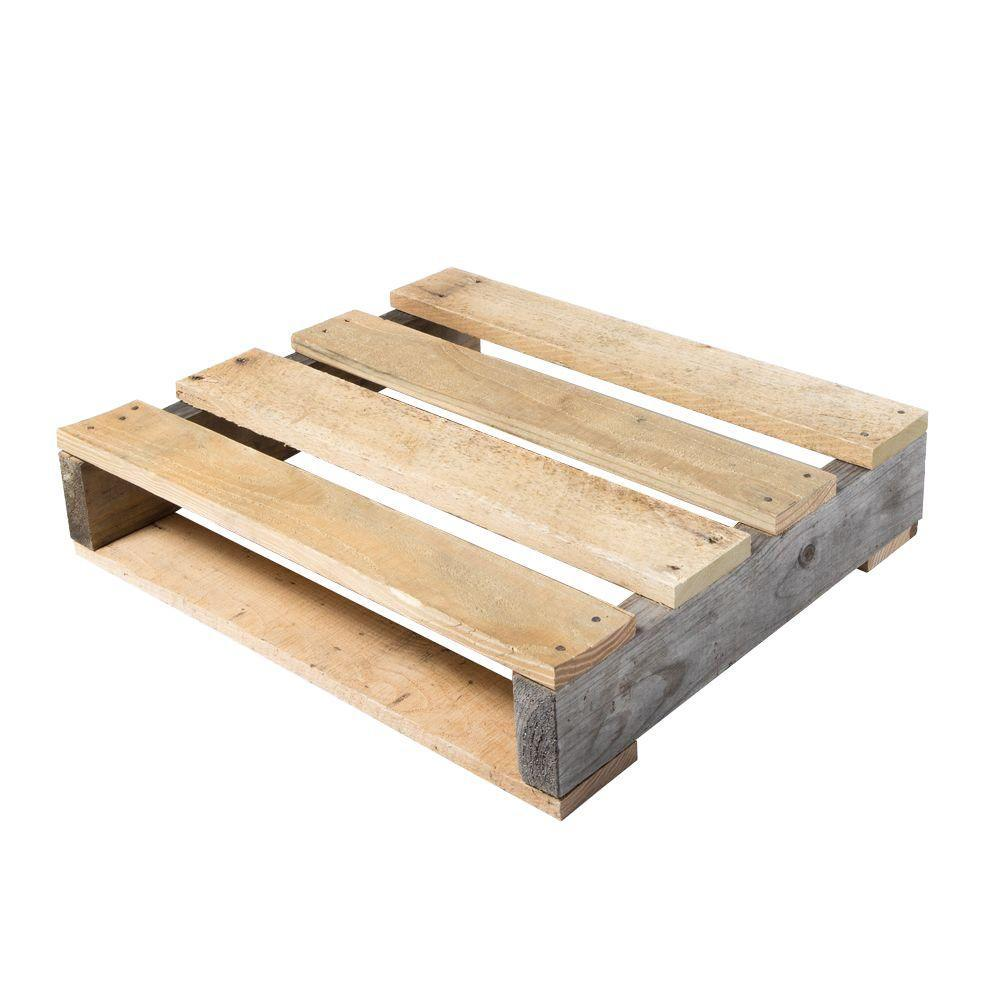wood: (36, 264, 937, 844)
